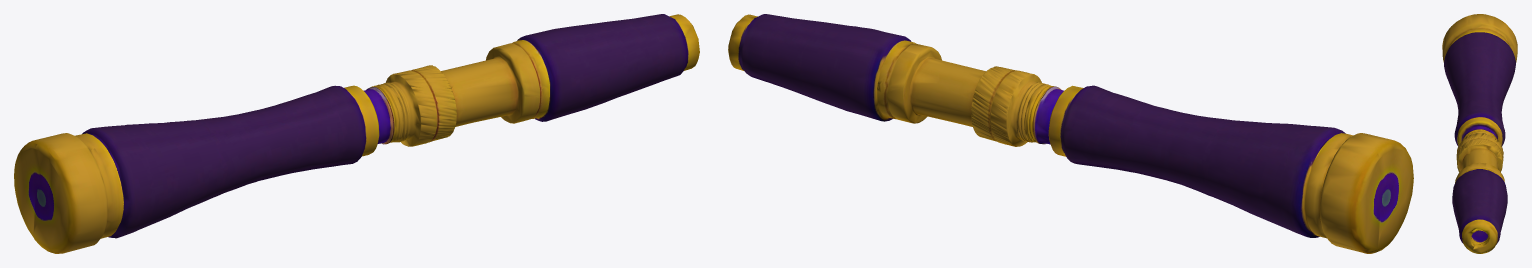
File: gear-rod6.glb
The picture shows the model from 3 angles, left to right: view 1: azimuth 30°, elevation 25°; view 2: azimuth 150°, elevation 25°; view 3: azimuth 270°, elevation 25°; orthographic projection. The views are drawn at different scales.
Visible parts, largest first — view 1: tripo_node_b2388c05-13d4-4caf-b395-8d76b32425a5; view 2: tripo_node_b2388c05-13d4-4caf-b395-8d76b32425a5; view 3: tripo_node_b2388c05-13d4-4caf-b395-8d76b32425a5.
Part boxes in pixels (x1,y1,x2,y2): tripo_node_b2388c05-13d4-4caf-b395-8d76b32425a5: (14, 14, 699, 253); tripo_node_b2388c05-13d4-4caf-b395-8d76b32425a5: (728, 14, 1413, 253); tripo_node_b2388c05-13d4-4caf-b395-8d76b32425a5: (1442, 14, 1517, 253).
Size of the model in its own units: 1 by 0.156 by 0.1635.
Materials: 1 (1 with a texture image).
